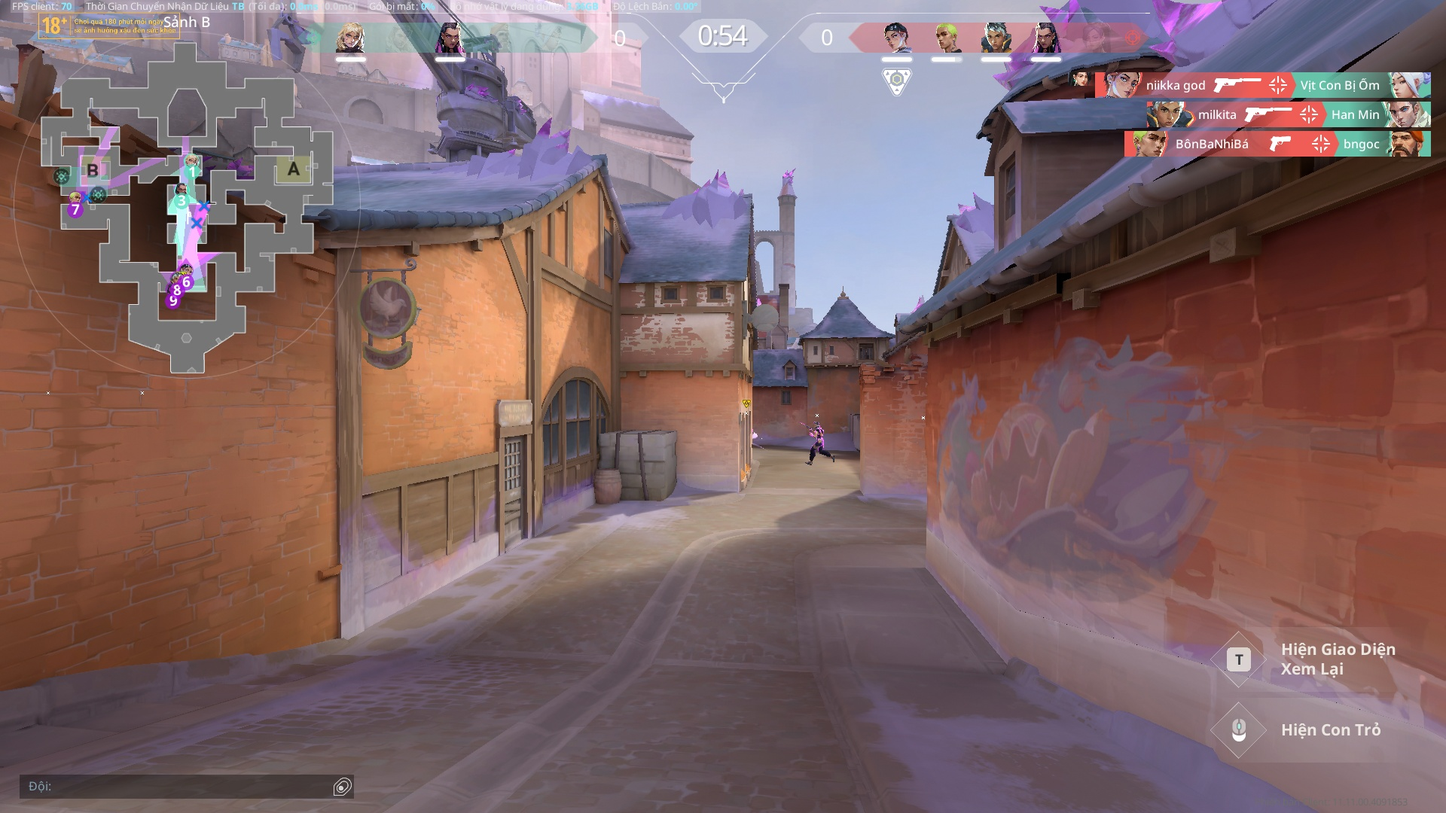body: (813, 425, 824, 439)
head: (813, 420, 820, 428)
